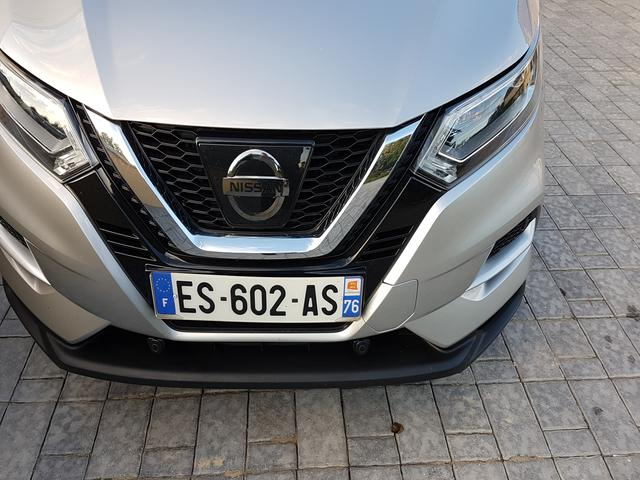Quashquai: (130, 239, 372, 338)
